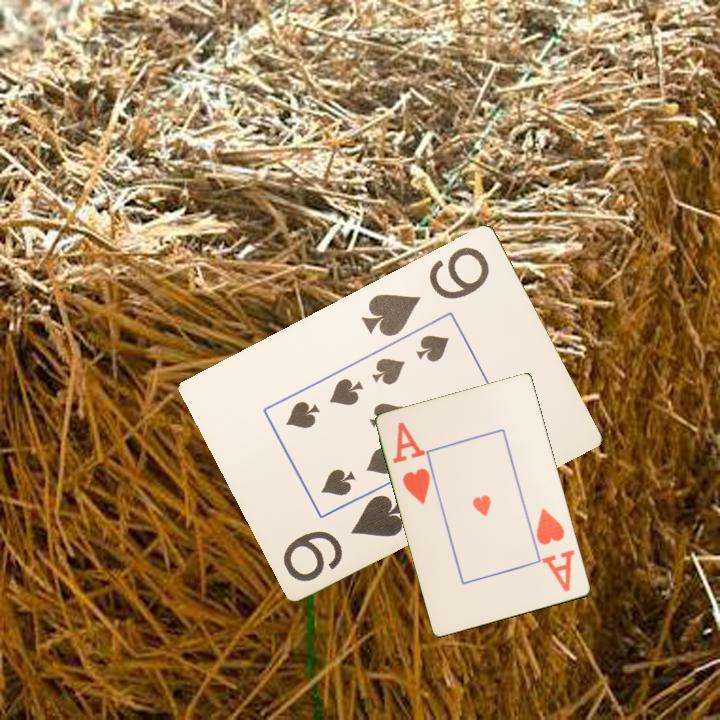9s: (357, 242, 493, 339), (279, 490, 413, 585)
Ah: (533, 505, 578, 595), (389, 419, 434, 508)
